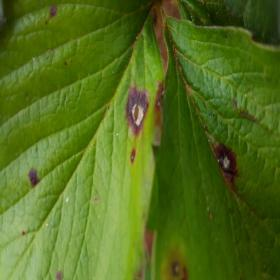Leaf Spot: (0, 0, 165, 279), (146, 14, 279, 279)
